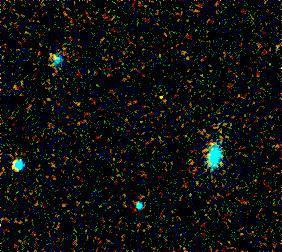star: (140, 81, 170, 111)
